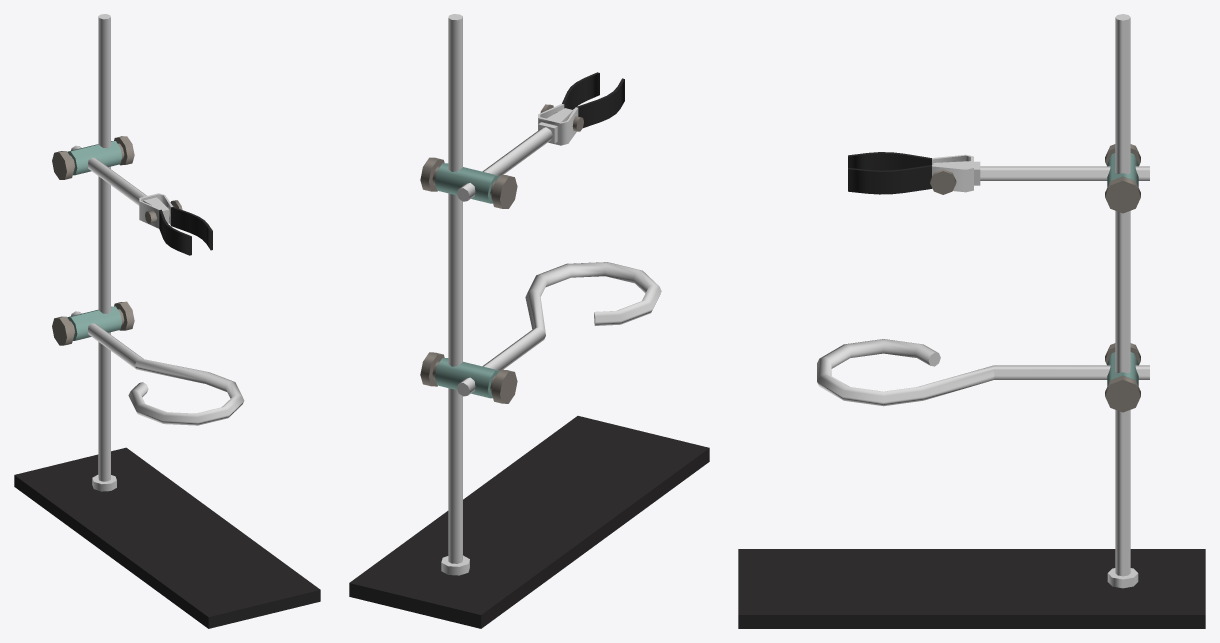
File: Flask Holder.fbx
3 views of the same model, side by side, from view 1: azimuth 30°, elevation 25°; view 2: azimuth 150°, elevation 25°; view 3: azimuth 270°, elevation 25° (orthographic). The views are drawn at different scales.
Visible parts, largest first — view 1: Vial_Holder:Vial_Holder; view 2: Vial_Holder:Vial_Holder; view 3: Vial_Holder:Vial_Holder.
Boxes of the visible parts, x1,y1,x2,y2 form: Vial_Holder:Vial_Holder: (14,14,320,628); Vial_Holder:Vial_Holder: (349,14,709,628); Vial_Holder:Vial_Holder: (738,14,1205,628).
Bounding box in the file's own units: 0.1108 × 0.41 × 0.3.
